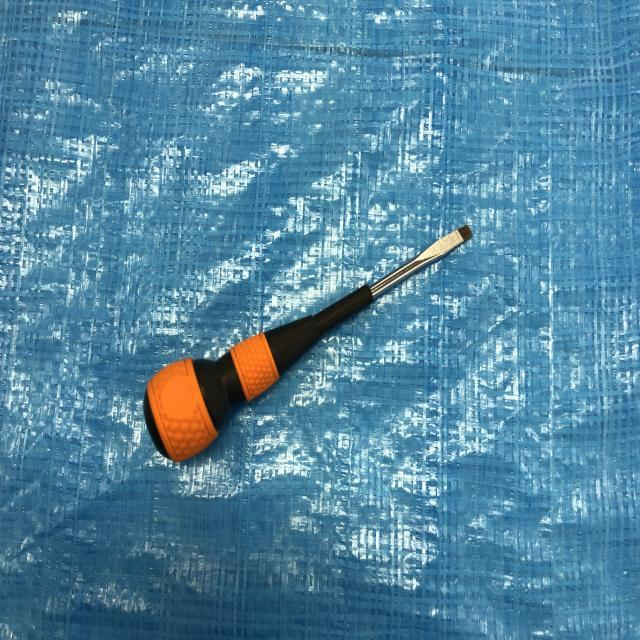screwdriver: (137, 217, 479, 466)
